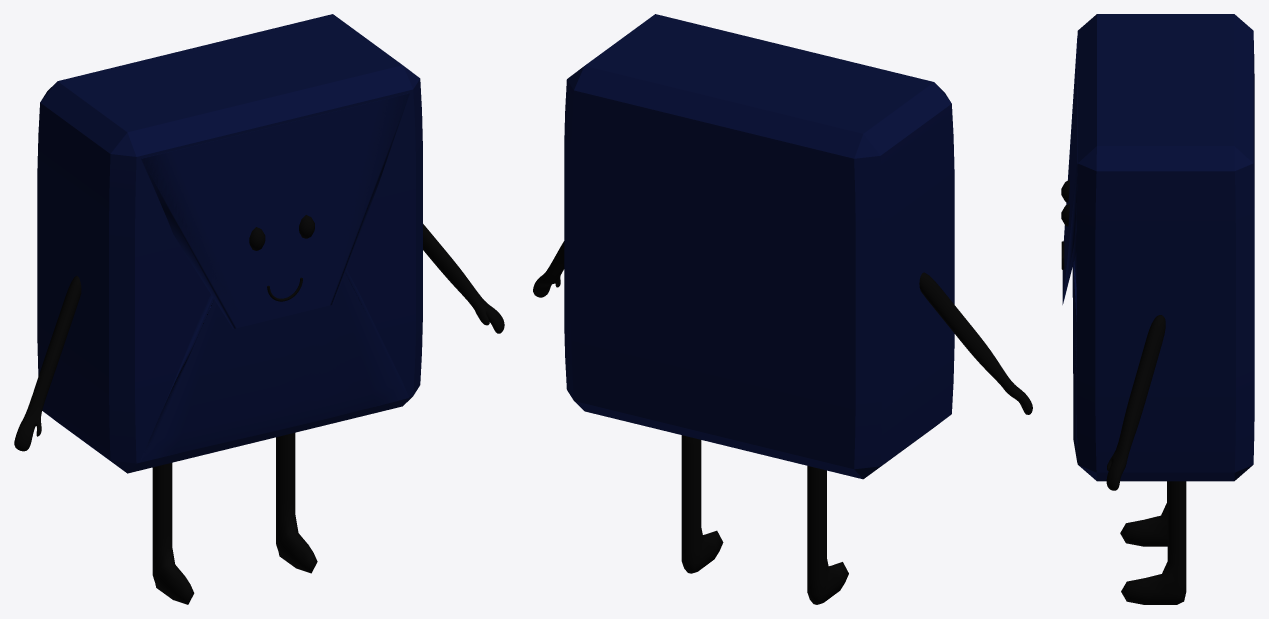
The model's file is Sugus - Azul.FBX.
The picture shows the model from 3 angles, left to right: view 1: azimuth 30°, elevation 25°; view 2: azimuth 150°, elevation 25°; view 3: azimuth 270°, elevation 25°; orthographic projection. The views are drawn at different scales.
Parts seen in each view (by area): view 1: Box001 (×2), Line001, Line002, Box002, Box003, Box004; view 2: Box001 (×2), Box002, Box003, Box004; view 3: Box001 (×2), Box002, Box004, Line001, Line002.
Boxes of the visible parts, x1,y1,x2,y2 form: Box001 (×2): (37,14,422,604); Line001: (141,93,409,328); Line002: (140,269,409,461); Box002: (276,433,317,573); Box003: (14,275,81,451); Box004: (423,224,504,333); Box001 (×2): (564,14,954,604); Box002: (681,435,723,573); Box003: (919,272,1032,414); Box004: (533,241,564,297); Box001 (×2): (1076,14,1254,546); Box002: (1121,481,1186,604); Box004: (1106,315,1165,490); Line001: (1062,36,1077,304); Line002: (1072,252,1087,470).
Bounding box in the file's own units: 29.69 × 29.22 × 10.32.
